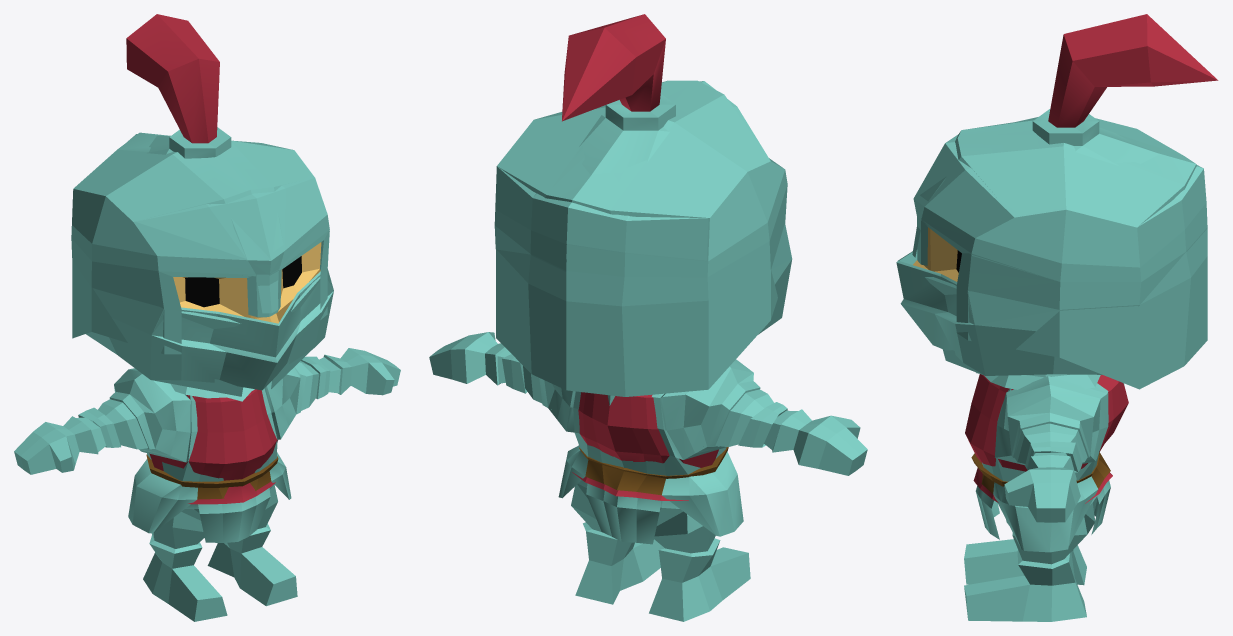
Rendered from player 1.fbx.
3 renders of one model, left to right at view 1: azimuth 30°, elevation 25°; view 2: azimuth 150°, elevation 25°; view 3: azimuth 270°, elevation 25°, orthographic. The views are drawn at different scales.
Parts seen in each view (by area): view 1: helmet 1, helmet 2, knight base body, helmet 3, knight armor 2, knight armor 1, knight armor 3; view 2: helmet 1, helmet 2, knight base body, knight armor 2, knight armor 3, knight armor 1; view 3: helmet 2, helmet 1, knight base body, helmet 3, knight armor 2, knight armor 3, knight armor 1.
Part boxes in pixels (bbox=[...]): helmet 1: bbox=[71, 132, 329, 354]; helmet 2: bbox=[86, 14, 333, 396]; knight base body: bbox=[14, 242, 400, 621]; helmet 3: bbox=[93, 215, 333, 390]; knight armor 2: bbox=[109, 364, 306, 533]; knight armor 1: bbox=[146, 383, 278, 504]; knight armor 3: bbox=[76, 356, 340, 542]; helmet 1: bbox=[496, 80, 787, 396]; helmet 2: bbox=[494, 14, 792, 334]; knight base body: bbox=[429, 332, 867, 621]; knight armor 2: bbox=[539, 373, 760, 536]; knight armor 3: bbox=[497, 349, 797, 544]; knight armor 1: bbox=[572, 392, 728, 500]; helmet 2: bbox=[913, 14, 1218, 375]; helmet 1: bbox=[917, 117, 1207, 389]; knight base body: bbox=[913, 227, 1098, 621]; helmet 3: bbox=[896, 199, 1060, 375]; knight armor 2: bbox=[981, 383, 1124, 552]; knight armor 3: bbox=[975, 376, 1110, 539]; knight armor 1: bbox=[965, 372, 1128, 503].
Bounding box in the file's own units: 134 × 183 × 92.51.
